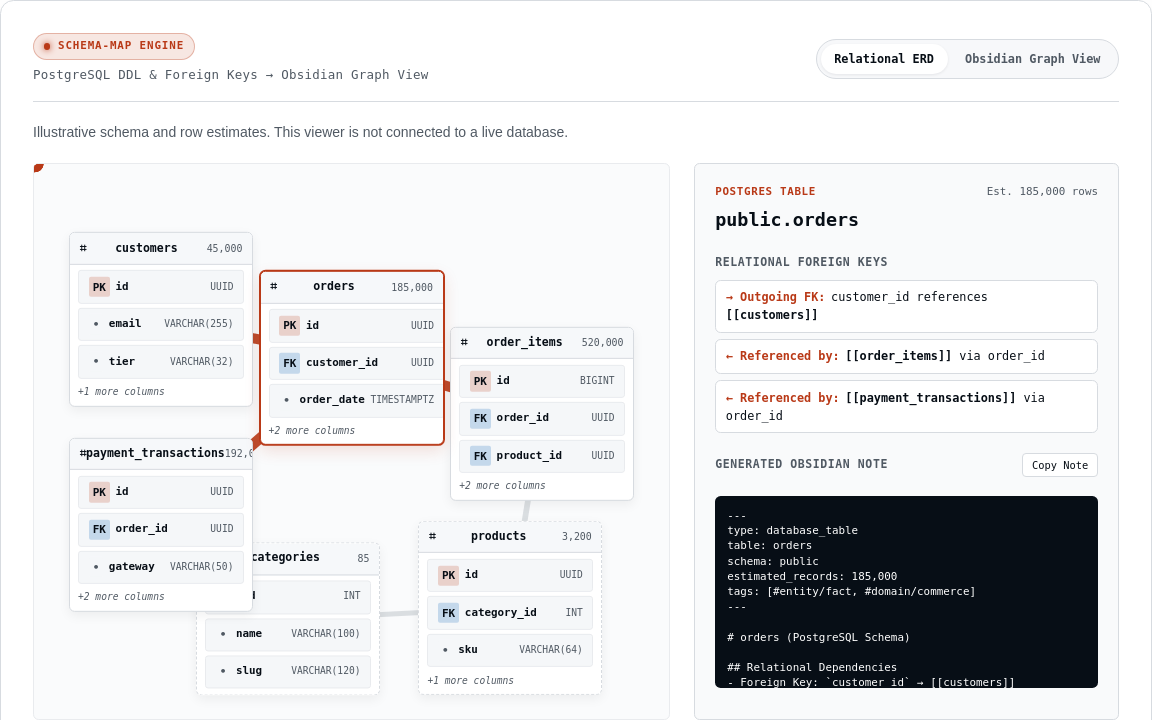
Test case: SchemaGraphViewer Component › selects a table and displays foreign keys and column schemas
Expected: the text "public.orders" is shown, [715,209,859,230]
Click on order_items table node
What coordinates should you click on to do the following:
click the button with aria-label "Inspect table order_items"
I would click on:
 (542, 414)
Its box is [450,326,634,501].
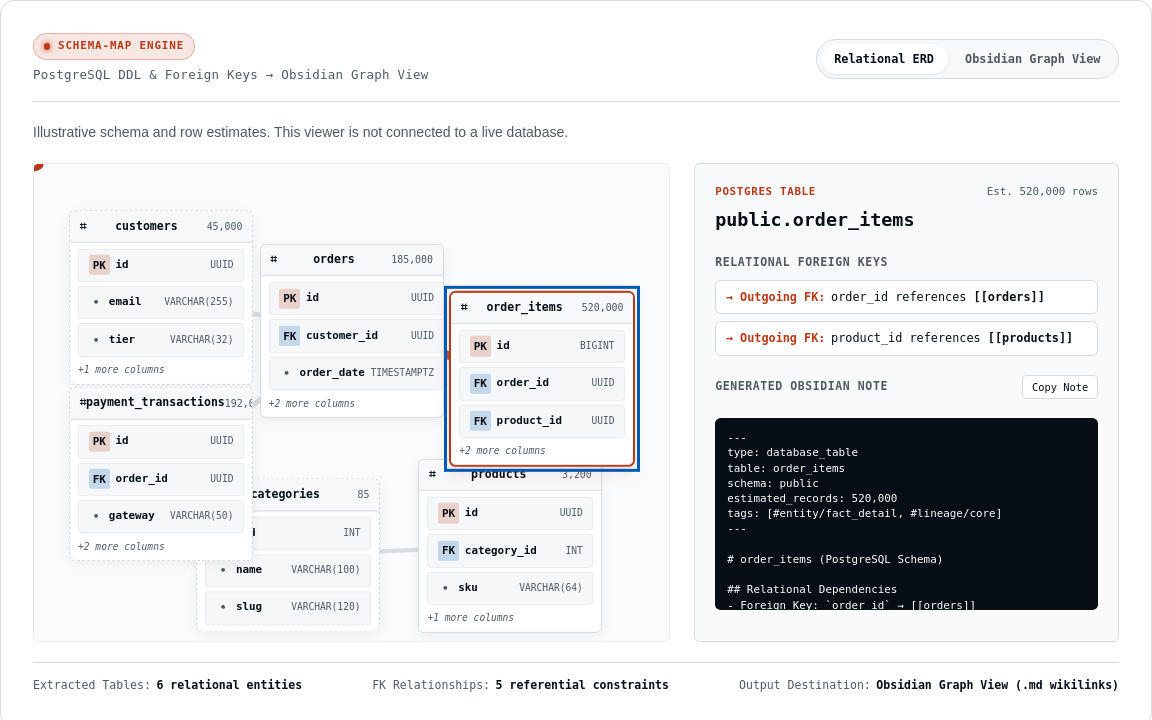
Expected: the heading "Relational Foreign Keys" is shown, [715,255,888,269]
Expected: the text "public.order_items" is shown, [715,209,914,230]
Expected: the text "Est. 520,000 rows" is shown, [987,184,1098,201]
